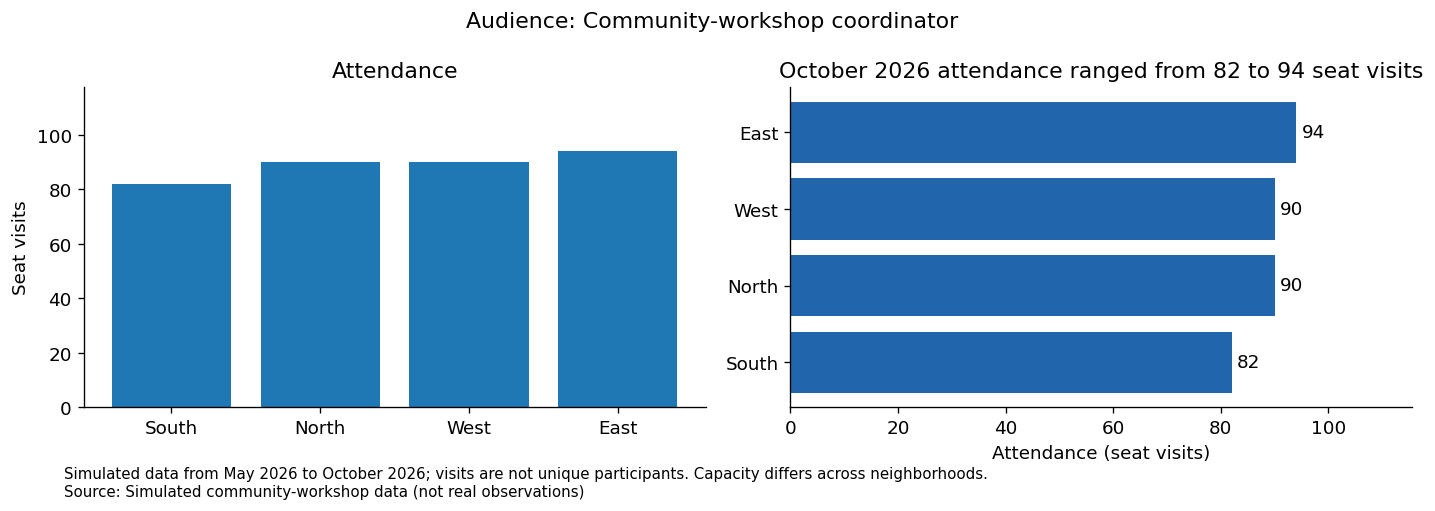

Layout of this report page (visuals, bound fields, positions):
{"tool":"tableau","page":{"name":"M2 Dashboard","canvas":[650,860],"ordinal":0},"visuals":[{"type":"worksheet","title":"M2","mark":"Automatic","rows":["neighborhood"],"cols":["attendance_visits"],"box":[8,8,634,422]},{"type":"worksheet","title":"M2 Check","mark":"Automatic","rows":["neighborhood"],"box":[8,430,634,422]}]}

Visuals, with their boxes on the page's 650x860 design canvas (x1, y1, x2, y2). These are canvas units, not pixel positions in the 1435x511 screenshot, which may show the page scaled, cropped or inside an application window:
"M2" worksheet: rect(8, 8, 642, 430)
"M2 Check" worksheet: rect(8, 430, 642, 852)
